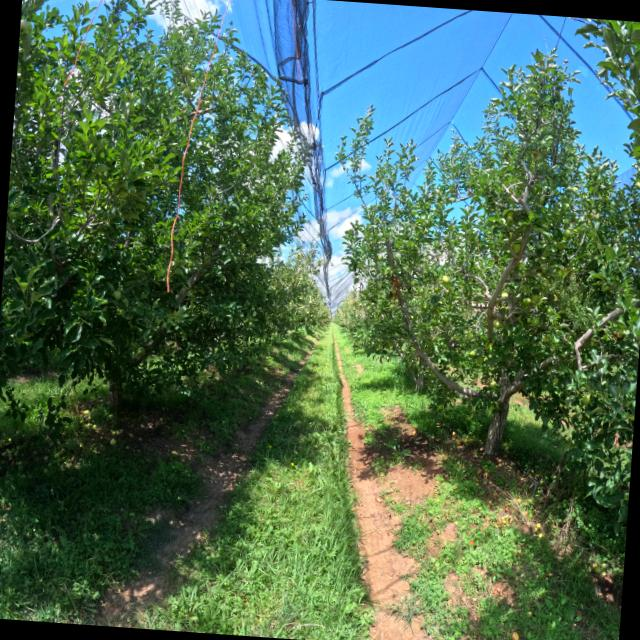-FireBlight-: (386, 272, 401, 304)
